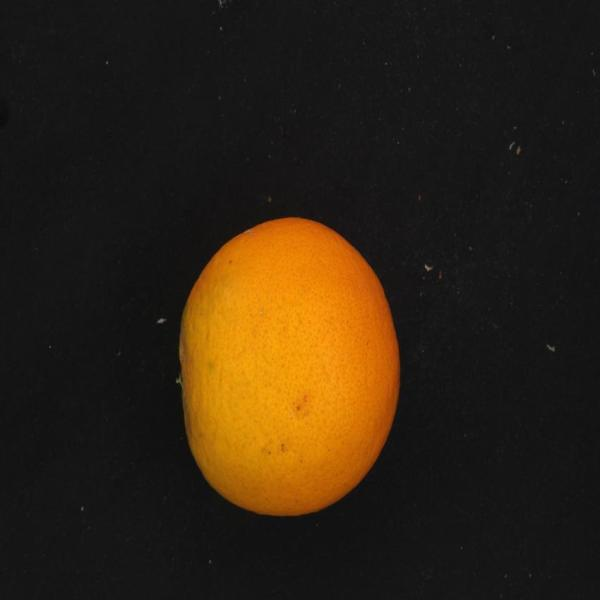Sana: (168, 204, 412, 535)
